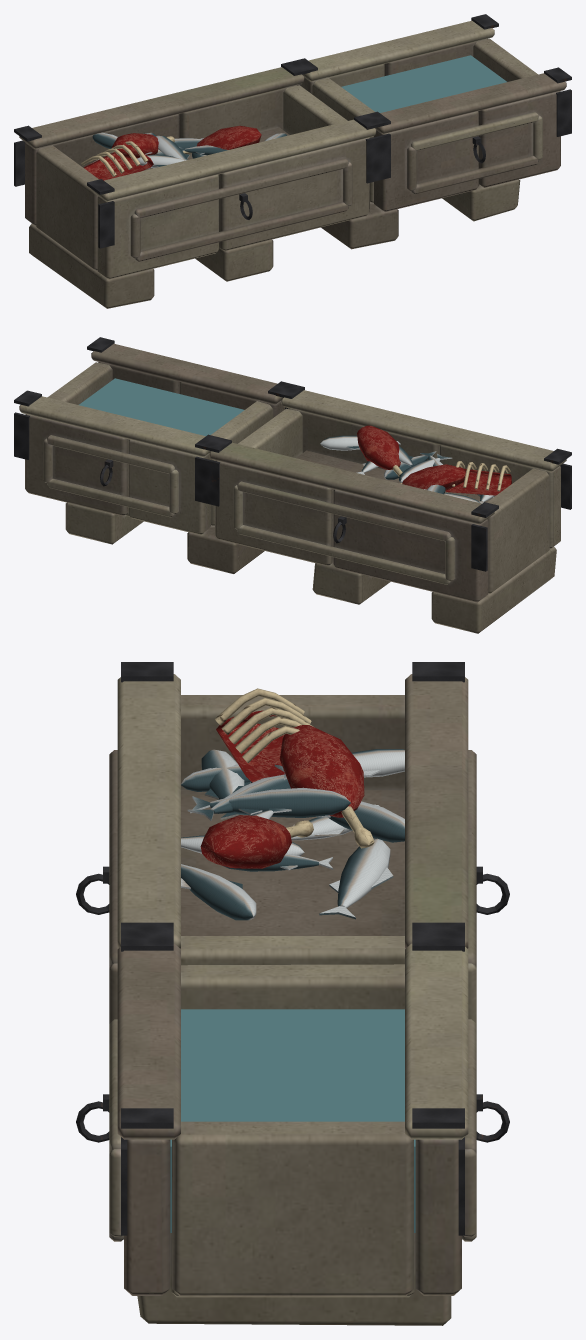
File: MangiatoiaDrago.fbx
3 renders of one model, top to bottom at view 1: azimuth 30°, elevation 25°; view 2: azimuth 150°, elevation 25°; view 3: azimuth 270°, elevation 25°, orthographic. The views are drawn at different scales.
Visible parts, largest first — view 1: Mangiatoia_Pietra, Mangiatoia_Ferro, Mangiatoia_Acqua, Mangiatoia_Carne, Mangiatoia_Pesci, Mangiatoia_Ossa; view 2: Mangiatoia_Pietra, Mangiatoia_Ferro, Mangiatoia_Acqua, Mangiatoia_Carne, Mangiatoia_Pesci, Mangiatoia_Ossa; view 3: Mangiatoia_Pietra, Mangiatoia_Acqua, Mangiatoia_Pesci, Mangiatoia_Ferro, Mangiatoia_Carne, Mangiatoia_Ossa, Mangiatoia_Pinne.
Boxes of the visible parts, left/top/right/bottom form: Mangiatoia_Pietra: left=19, top=20, right=566, bottom=308; Mangiatoia_Ferro: left=14, top=14, right=571, bottom=248; Mangiatoia_Acqua: left=341, top=55, right=506, bottom=112; Mangiatoia_Carne: left=84, top=125, right=261, bottom=180; Mangiatoia_Pesci: left=91, top=132, right=286, bottom=168; Mangiatoia_Ossa: left=81, top=136, right=196, bottom=176; Mangiatoia_Pietra: left=19, top=343, right=566, bottom=633; Mangiatoia_Ferro: left=14, top=337, right=571, bottom=571; Mangiatoia_Acqua: left=79, top=378, right=244, bottom=435; Mangiatoia_Carne: left=357, top=425, right=511, bottom=495; Mangiatoia_Pesci: left=320, top=435, right=495, bottom=502; Mangiatoia_Ossa: left=392, top=461, right=510, bottom=491; Mangiatoia_Pietra: left=109, top=674, right=476, bottom=1325; Mangiatoia_Acqua: left=170, top=1009, right=415, bottom=1232; Mangiatoia_Pesci: left=181, top=749, right=404, bottom=920; Mangiatoia_Ferro: left=76, top=662, right=509, bottom=1235; Mangiatoia_Carne: left=200, top=710, right=364, bottom=868; Mangiatoia_Ossa: left=215, top=688, right=374, bottom=848; Mangiatoia_Pinne: left=181, top=764, right=393, bottom=919.
Bounding box in the file's own units: 516 × 135 × 206.
